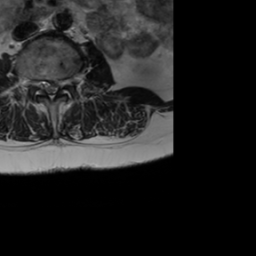CCS_normal: (47, 72, 54, 105)
LFS_stenosis: (61, 70, 69, 91)
LLS_normal: (54, 71, 61, 98)
RFS_normal: (32, 69, 40, 95)
RLS_normal: (40, 71, 47, 98)
